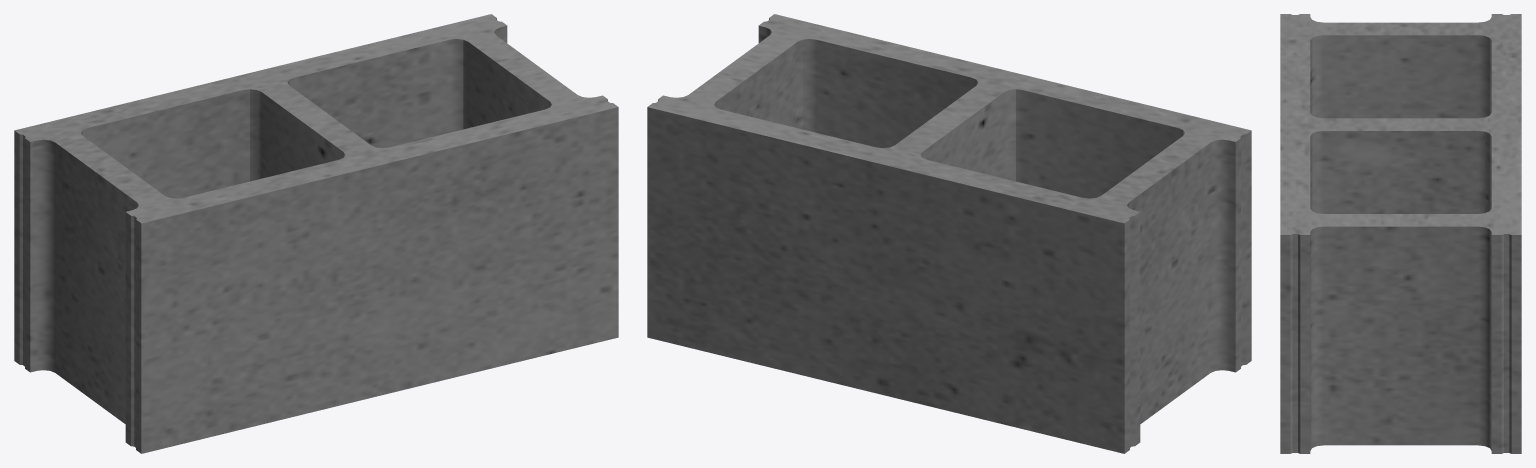
The model's file is cinder-block.glb.
3 renders of one model, left to right at view 1: azimuth 30°, elevation 25°; view 2: azimuth 150°, elevation 25°; view 3: azimuth 270°, elevation 25°, orthographic. The views are drawn at different scales.
Visible parts, largest first — view 1: CinderBlock; view 2: CinderBlock; view 3: CinderBlock.
Boxes of the visible parts, left/top/right/bottom form: CinderBlock: left=14, top=14, right=618, bottom=453; CinderBlock: left=647, top=14, right=1251, bottom=453; CinderBlock: left=1280, top=14, right=1521, bottom=453.
Size of the model in its own units: 0.4403 by 0.2032 by 0.2032.
Materials: 1 (1 with a texture image).
